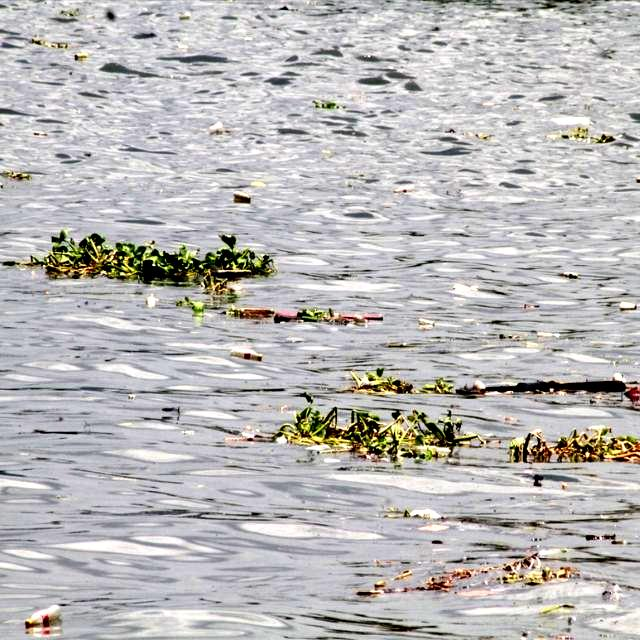water-hyacinth: (23, 225, 275, 285), (279, 397, 466, 467), (516, 419, 640, 465), (346, 360, 401, 397)
